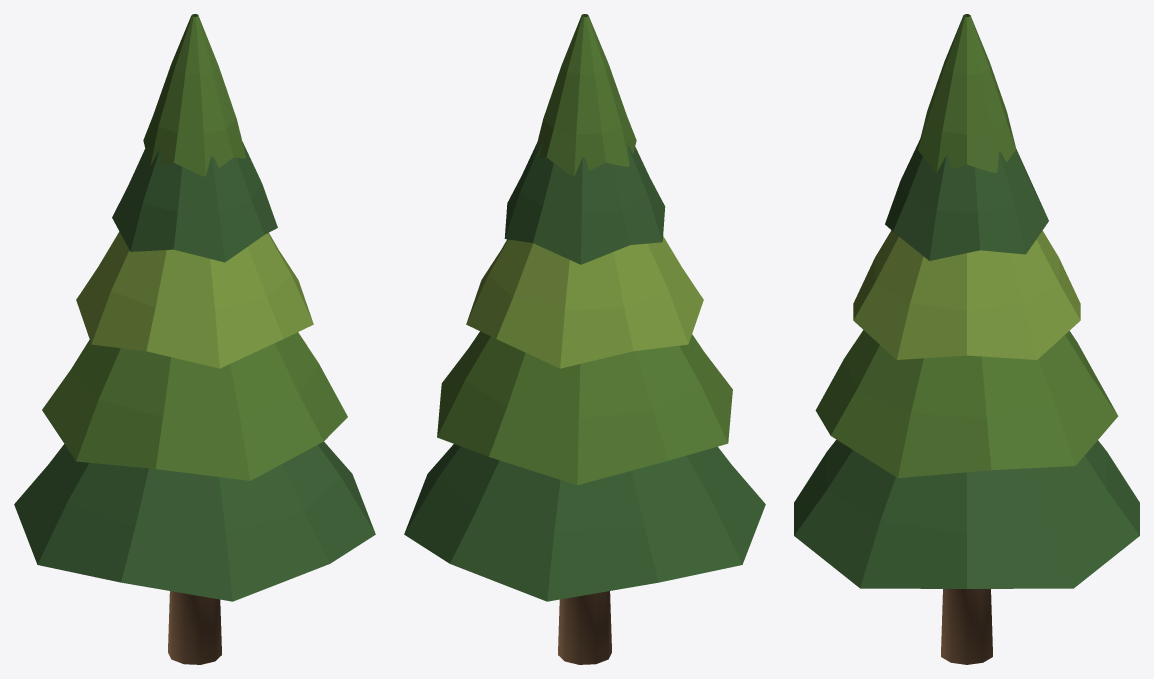
Rendered from 26_pine_tree.glb.
3 renders of one model, left to right at view 1: azimuth 30°, elevation 25°; view 2: azimuth 150°, elevation 25°; view 3: azimuth 270°, elevation 25°, orthographic.
Visible parts, largest first — view 1: Pine foliage tier, Pine foliage tier.001, Pine foliage tier.002, Pine foliage tier.003, Pine foliage tier.004, Pine trunk; view 2: Pine foliage tier, Pine foliage tier.001, Pine foliage tier.002, Pine foliage tier.003, Pine foliage tier.004, Pine trunk; view 3: Pine foliage tier, Pine foliage tier.001, Pine foliage tier.002, Pine foliage tier.003, Pine foliage tier.004, Pine trunk.
Boxes of the visible parts, x1=… form: Pine foliage tier: x1=14, y1=441, x2=375, y2=601; Pine foliage tier.001: x1=42, y1=332, x2=347, y2=480; Pine foliage tier.002: x1=76, y1=231, x2=313, y2=368; Pine foliage tier.003: x1=112, y1=141, x2=277, y2=262; Pine foliage tier.004: x1=143, y1=14, x2=246, y2=176; Pine trunk: x1=168, y1=591, x2=221, y2=664; Pine foliage tier: x1=404, y1=444, x2=765, y2=601; Pine foliage tier.001: x1=437, y1=331, x2=732, y2=485; Pine foliage tier.002: x1=466, y1=236, x2=703, y2=368; Pine foliage tier.003: x1=504, y1=142, x2=665, y2=264; Pine foliage tier.004: x1=534, y1=14, x2=636, y2=176; Pine trunk: x1=558, y1=591, x2=611, y2=664; Pine foliage tier: x1=794, y1=439, x2=1139, y2=588; Pine foliage tier.001: x1=815, y1=330, x2=1118, y2=477; Pine foliage tier.002: x1=853, y1=230, x2=1080, y2=359; Pine foliage tier.003: x1=885, y1=135, x2=1048, y2=260; Pine foliage tier.004: x1=917, y1=14, x2=1016, y2=172; Pine trunk: x1=941, y1=589, x2=992, y2=664.
Size of the model in its own units: 1.4 by 2.71 by 1.33.
